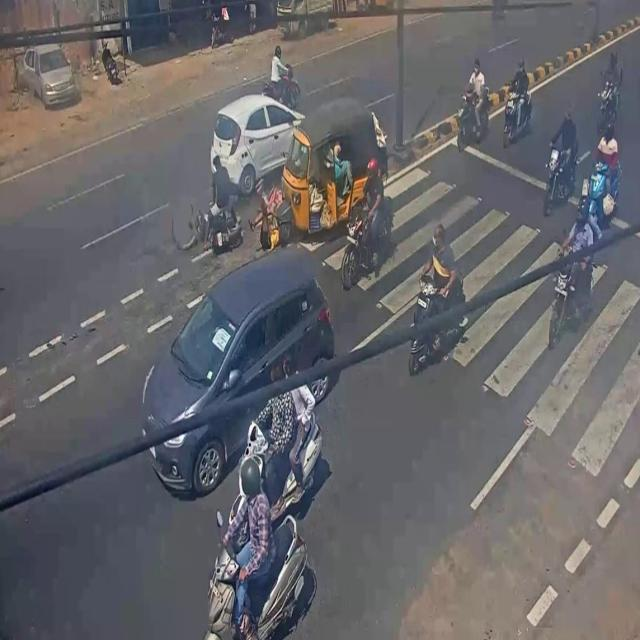accident: (182, 82, 390, 254)
non_accident: (133, 240, 339, 640)
